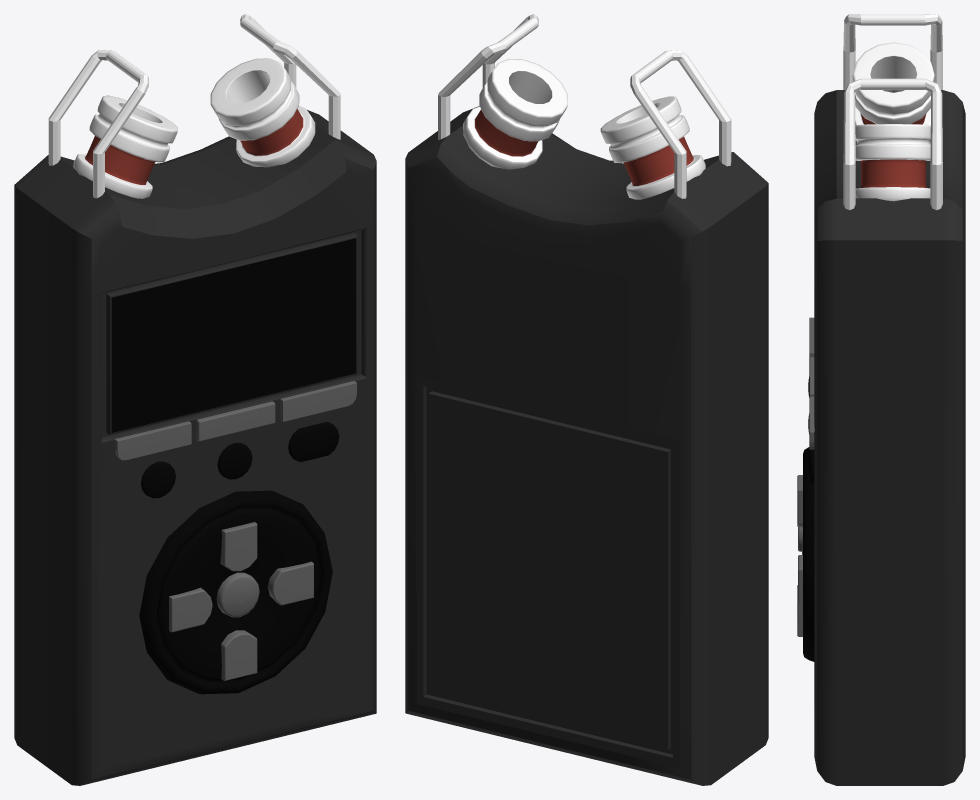
File: Tascam_DR40X.fbx
The picture shows the model from 3 angles, left to right: view 1: azimuth 30°, elevation 25°; view 2: azimuth 150°, elevation 25°; view 3: azimuth 270°, elevation 25°; orthographic projection. The views are drawn at different scales.
Parts seen in each view (by area): view 1: pCube68, pCylinder96, pCylinder142, pCylinder147, pCube70, pPlane10, pPlane9, pCube69, pCylinder146, pCylinder143, pCylinder145, pCylinder144; view 2: pCube68, pCylinder142, pCylinder147; view 3: pCube68, pCylinder142, pCylinder147, pCylinder96, pCube70, pPlane10, pPlane9.
Part boxes in pixels (x1,y1,x2,y2): pCube68: (14,110,376,785); pCylinder96: (139,490,332,694); pCylinder142: (73,58,315,198); pCylinder147: (48,14,340,198); pCube70: (115,381,356,460); pPlane10: (220,522,257,680); pPlane9: (169,561,313,632); pCube69: (196,401,275,441); pCylinder146: (288,421,339,462); pCylinder143: (216,572,259,617); pCylinder145: (141,461,175,498); pCylinder144: (217,443,252,479); pCube68: (405,106,768,785); pCylinder142: (463,59,705,199); pCylinder147: (438,14,731,198); pCube68: (814,90,965,785); pCylinder142: (852,42,934,201); pCylinder147: (843,14,942,210); pCylinder96: (803,447,814,661); pCube70: (809,317,814,449); pPlane10: (797,475,802,636); pPlane9: (798,527,802,604).
Size of the model in its own units: 4.14 by 8.92 by 2.04.
